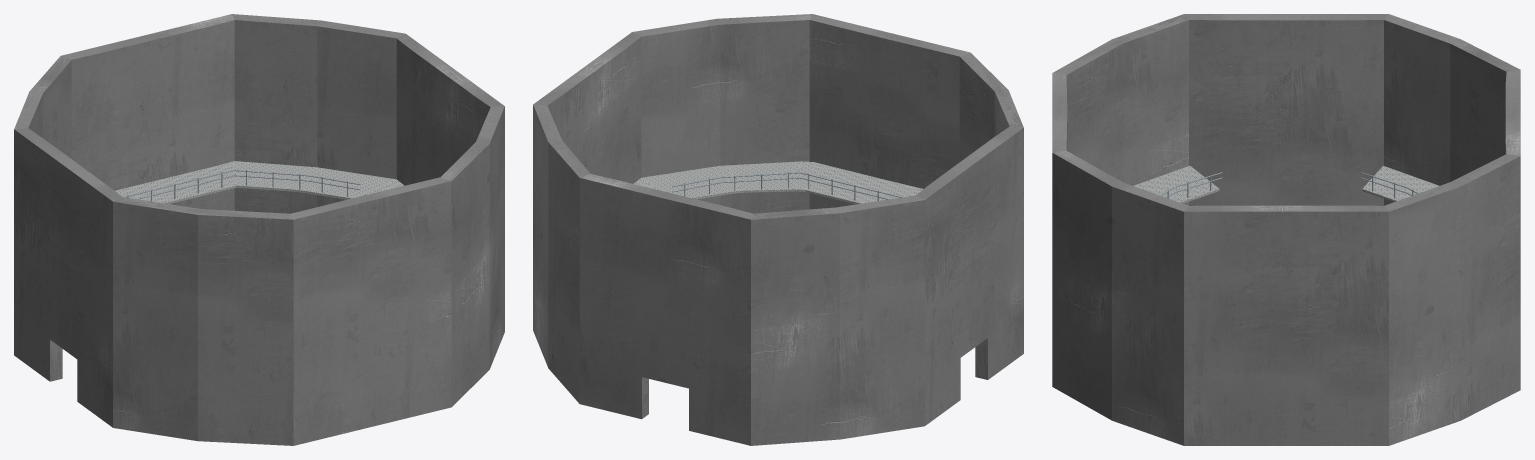
Rendered from paredes_portal_cortaditas.fbx.
3 views of the same model, side by side, from view 1: azimuth 30°, elevation 25°; view 2: azimuth 150°, elevation 25°; view 3: azimuth 270°, elevation 25° (orthographic). The views are drawn at different scales.
Visible parts, largest first — view 1: Circle.002, Circle.028, Circle.031, Circle.030, Circle.004, Cylinder.058; view 2: Circle.002, Circle.030, Circle.031, Circle.034, Circle.028, Circle.033, Cylinder.131; view 3: Circle.002, Circle.030, Circle.028, Circle.032, Circle.004, Circle.031.
Boxes of the visible parts, x1=… form: Circle.002: x1=14, y1=14, x2=503, y2=427; Circle.028: x1=113, y1=197, x2=293, y2=445; Circle.031: x1=291, y1=177, x2=451, y2=445; Circle.030: x1=441, y1=106, x2=504, y2=406; Circle.004: x1=114, y1=161, x2=404, y2=203; Cylinder.058: x1=123, y1=170, x2=360, y2=201; Circle.002: x1=533, y1=32, x2=1023, y2=445; Circle.030: x1=632, y1=14, x2=812, y2=213; Circle.031: x1=809, y1=14, x2=969, y2=209; Circle.034: x1=641, y1=161, x2=815, y2=199; Circle.028: x1=959, y1=52, x2=1023, y2=161; Circle.033: x1=806, y1=162, x2=923, y2=204; Cylinder.131: x1=672, y1=172, x2=801, y2=196; Circle.002: x1=1184, y1=14, x2=1520, y2=445; Circle.030: x1=1052, y1=151, x2=1188, y2=445; Circle.028: x1=1053, y1=14, x2=1188, y2=205; Circle.032: x1=1133, y1=166, x2=1219, y2=203; Circle.004: x1=1362, y1=166, x2=1439, y2=201; Circle.031: x1=1052, y1=73, x2=1067, y2=152.
Bounding box in the file's own units: 6325 × 3491 × 6325.
